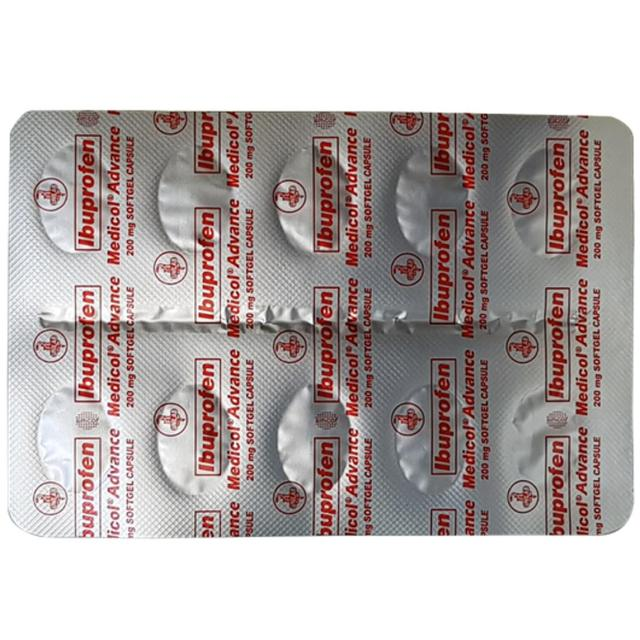blister: (4, 104, 637, 543)
